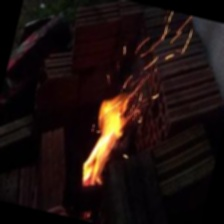fire: (69, 10, 160, 196)
